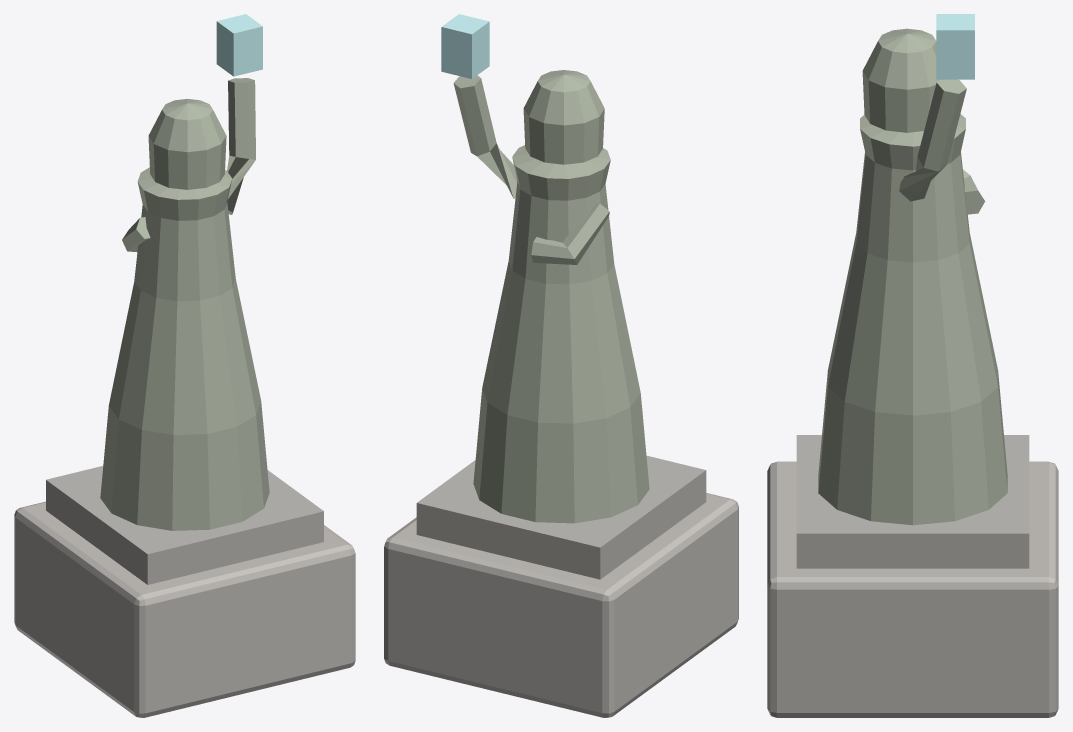
The model's file is statue_oda.glb.
The picture shows the model from 3 angles, left to right: view 1: azimuth 30°, elevation 25°; view 2: azimuth 150°, elevation 25°; view 3: azimuth 270°, elevation 25°; orthographic projection. The views are drawn at different scales.
Visible parts, largest first — view 1: statue_oda; view 2: statue_oda; view 3: statue_oda.
Boxes of the visible parts, bbox=[...] form: statue_oda: bbox=[14, 14, 355, 717]; statue_oda: bbox=[384, 14, 738, 717]; statue_oda: bbox=[767, 14, 1058, 717].
Bounding box in the file's own units: 1.5 × 3.86 × 1.5.
